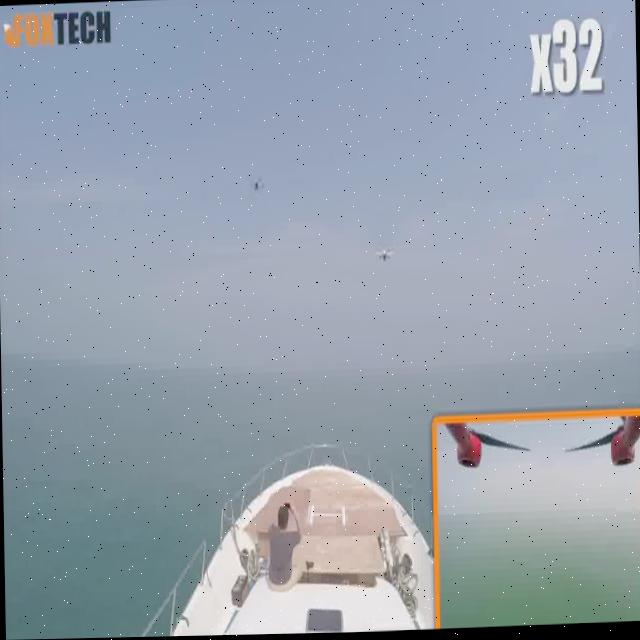drone: (370, 238, 394, 272), (247, 163, 267, 201)
